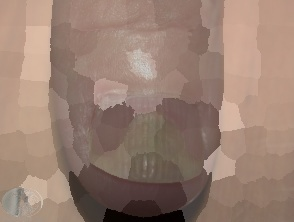Nail_psoriasis: (53, 51, 228, 205)
